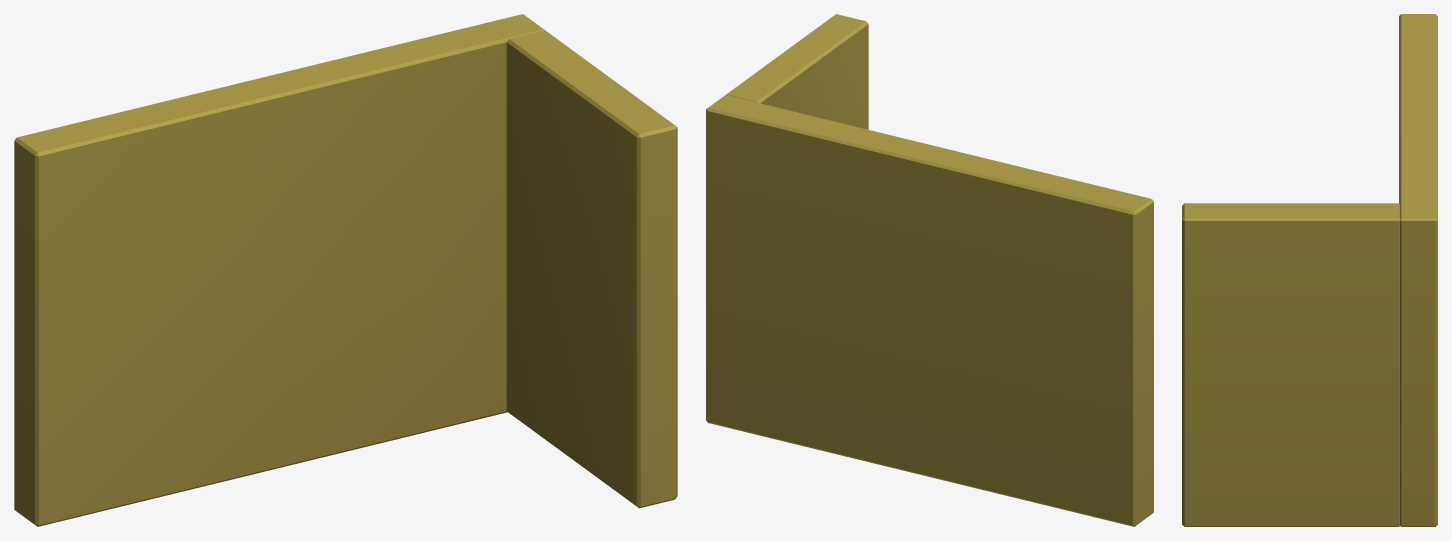
The model's file is BR_CornerPartition.glb.
3 renders of one model, left to right at view 1: azimuth 30°, elevation 25°; view 2: azimuth 150°, elevation 25°; view 3: azimuth 270°, elevation 25°, orthographic. The views are drawn at different scales.
Parts seen in each view (by area): view 1: BR_CornerPartition__Body; view 2: BR_CornerPartition__Body; view 3: BR_CornerPartition__Body.
Boxes of the visible parts, x1,y1,x2,y2 form: BR_CornerPartition__Body: [14, 14, 677, 526]; BR_CornerPartition__Body: [706, 14, 1153, 526]; BR_CornerPartition__Body: [1182, 14, 1437, 526].
Size of the model in its own units: 20 by 14 by 10.5.
